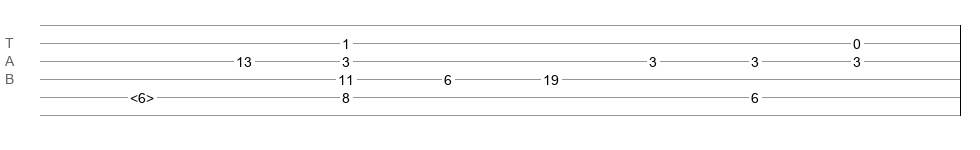0: (853, 36, 861, 46)
1: (342, 36, 350, 46)
11: (338, 72, 354, 82)
13: (236, 54, 252, 64)
19: (543, 72, 559, 82)
3: (342, 54, 350, 64), (649, 54, 657, 64), (751, 54, 759, 64), (853, 54, 861, 64)
6: (444, 72, 452, 82), (751, 90, 759, 100)
8: (342, 90, 350, 100)
harmonic: (130, 90, 154, 100)
